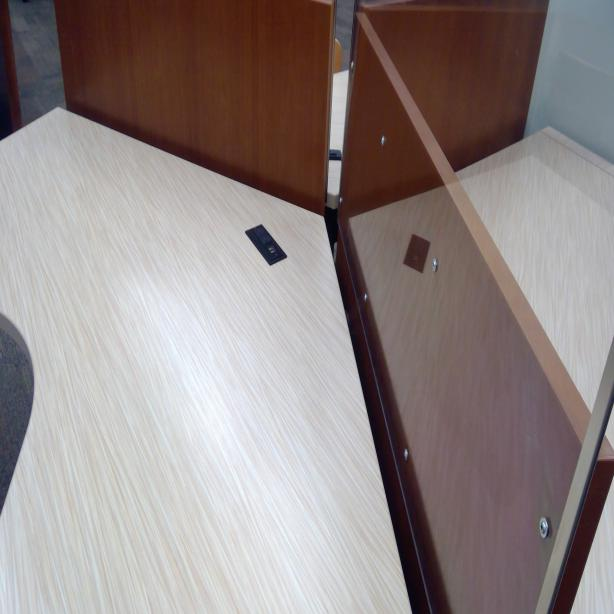typeb: (255, 225, 264, 238), (261, 234, 270, 246)
